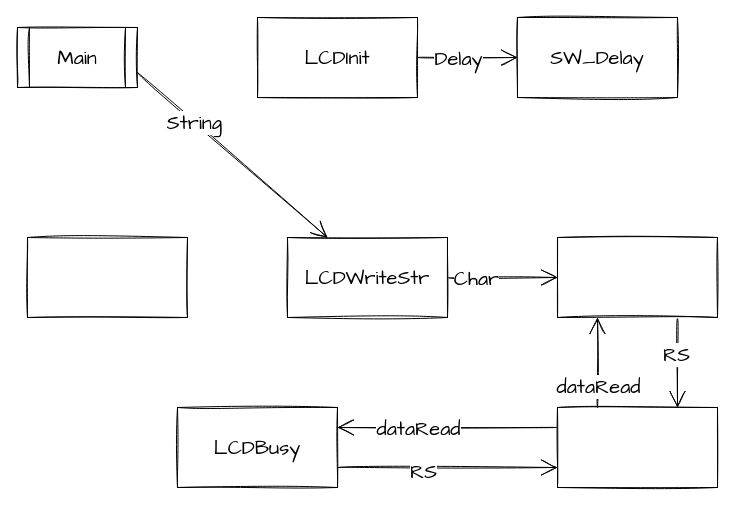
Image size: 735x505. Some labels were removed from this diagram. The shapes that lost their labels are listed below. From the top down, each one's centre as x and y in pixels, then its label:
At (107,277): "system_init".
At (637,277): "LCDPutChar".
At (637,447): "LCDRead".
